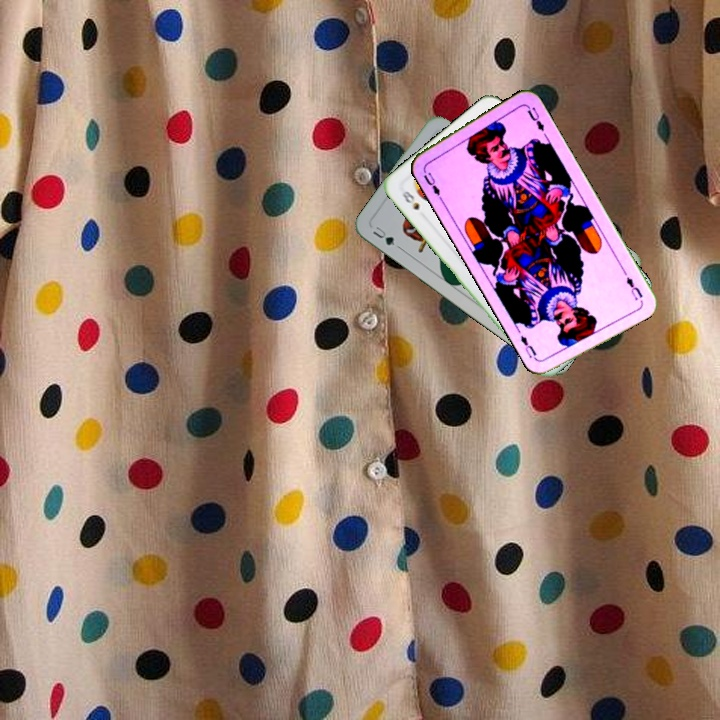EU: (418, 165, 444, 202), (622, 273, 645, 303)
GU: (368, 222, 397, 248)
S8: (398, 187, 422, 213)
